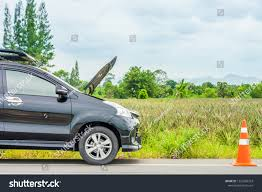car: (1, 47, 143, 164)
cone: (235, 119, 254, 166)
